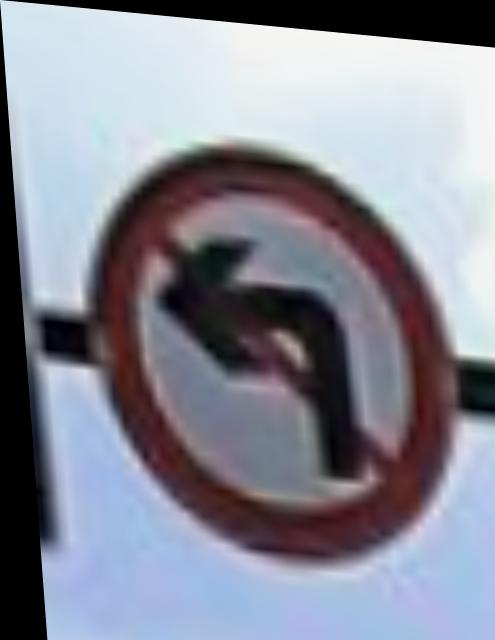not_turn_left: (69, 117, 475, 561)
